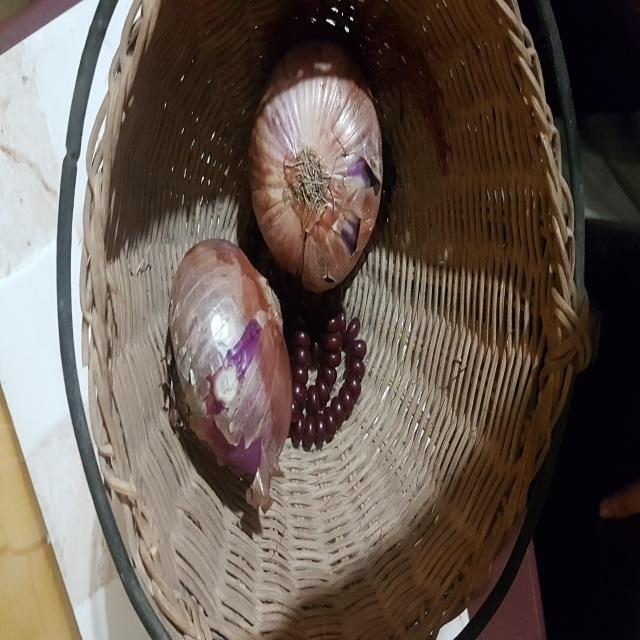onion: (247, 40, 386, 295), (166, 241, 296, 497)
